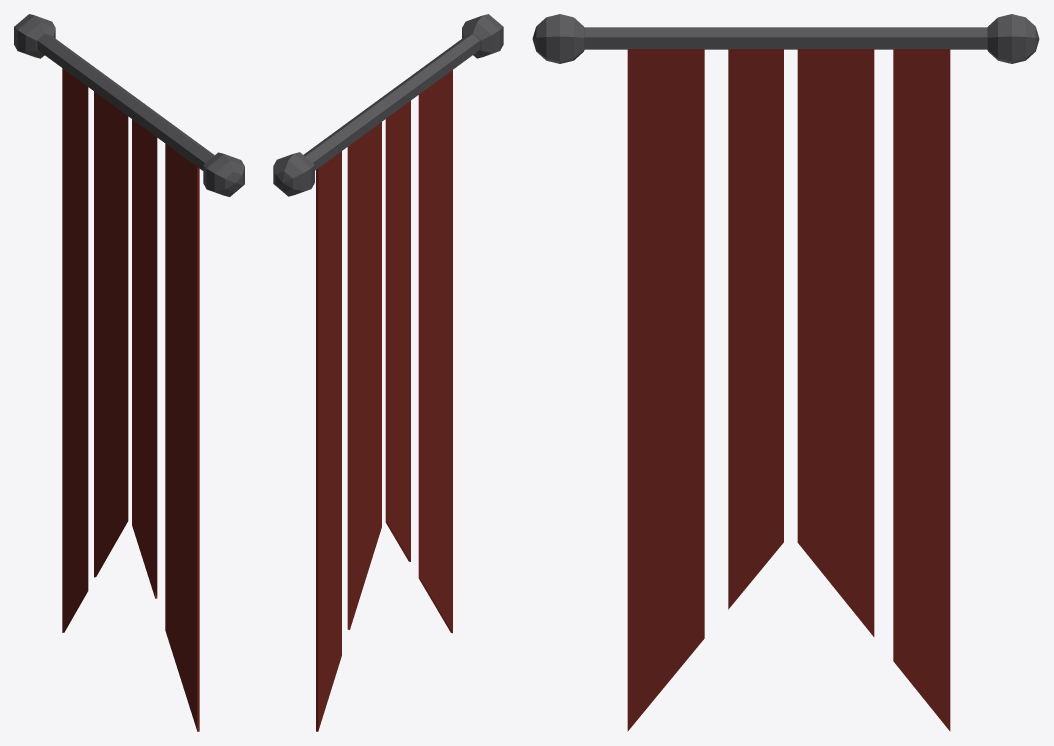
The model's file is Banderin Roto.fbx.
3 renders of one model, left to right at view 1: azimuth 30°, elevation 25°; view 2: azimuth 150°, elevation 25°; view 3: azimuth 270°, elevation 25°, orthographic. The views are drawn at different scales.
Parts seen in each view (by area): view 1: polySurface485; view 2: polySurface485; view 3: polySurface485.
Part boxes in pixels (x1,y1,x2,y2): polySurface485: [14, 14, 244, 731]; polySurface485: [273, 14, 503, 731]; polySurface485: [532, 14, 1039, 731].
Bounding box in the file's own units: 1.05 × 17.38 × 11.16.
